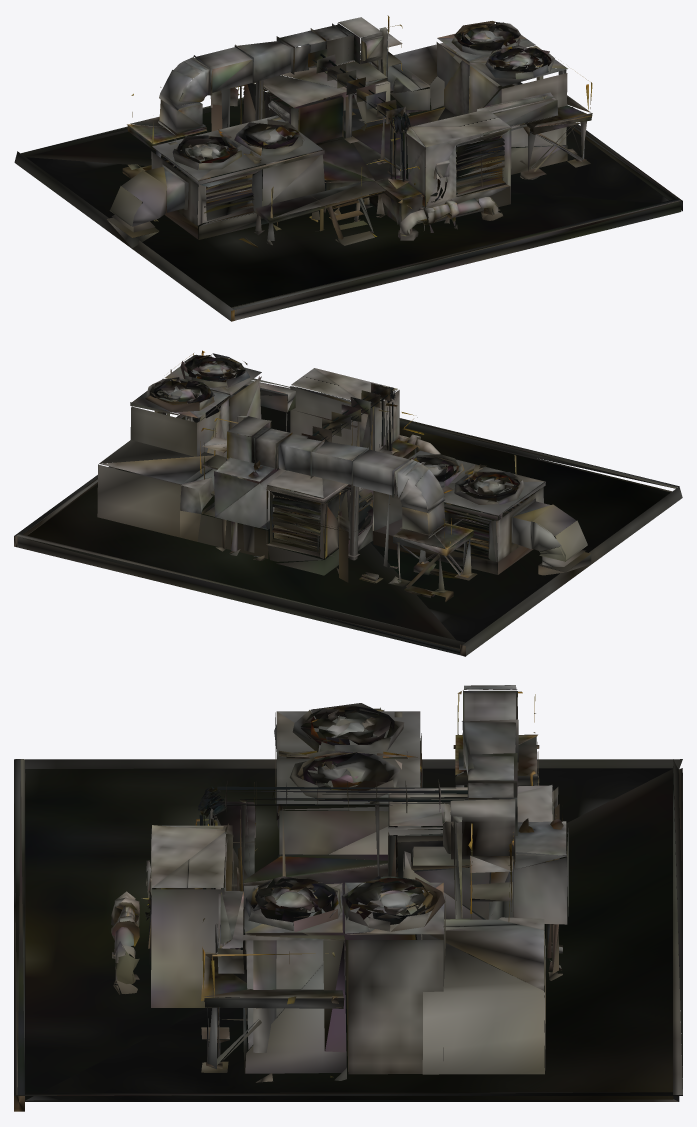
The model's file is hvac-far.glb.
The picture shows the model from 3 angles, top to bottom: view 1: azimuth 30°, elevation 25°; view 2: azimuth 150°, elevation 25°; view 3: azimuth 270°, elevation 25°; orthographic projection. The views are drawn at different scales.
Parts seen in each view (by area): view 1: hvac; view 2: hvac; view 3: hvac.
Boxes of the visible parts, x1=… form: hvac: x1=14, y1=15, x2=682, y2=321; hvac: x1=14, y1=350, x2=682, y2=656; hvac: x1=14, y1=685, x2=682, y2=1111.
Size of the model in its own units: 9 by 2.2 by 7.43.
Materials: 1 (1 with a texture image).
